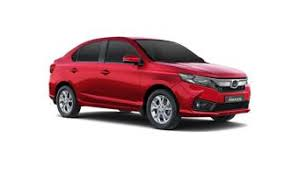Honda: (47, 34, 252, 130)
